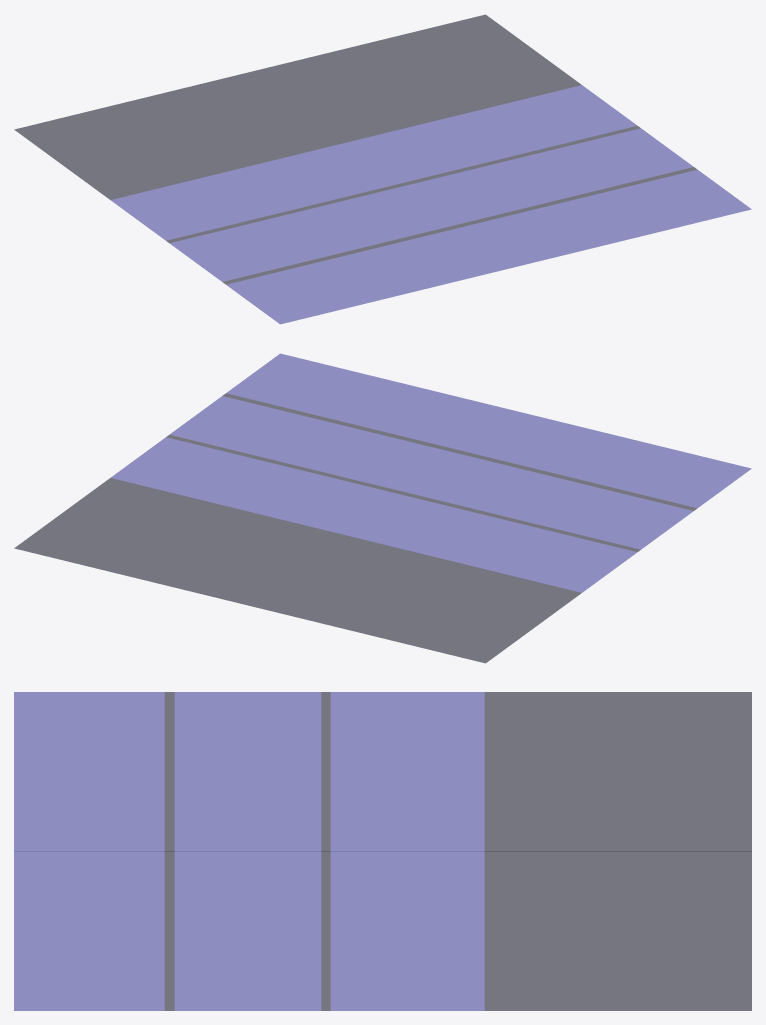
The model's file is Telemetry_Panel.dae.
The picture shows the model from 3 angles, top to bottom: view 1: azimuth 30°, elevation 25°; view 2: azimuth 150°, elevation 25°; view 3: azimuth 270°, elevation 25°; orthographic projection. The views are drawn at different scales.
Parts seen in each view (by area): view 1: pPlane1; view 2: pPlane1; view 3: pPlane1.
Part boxes in pixels (<box>): pPlane1: <box>14,14,751,324</box>; pPlane1: <box>14,353,751,663</box>; pPlane1: <box>14,692,751,1010</box>.
Size of the model in its own units: 14.4 by 0 by 14.08.
